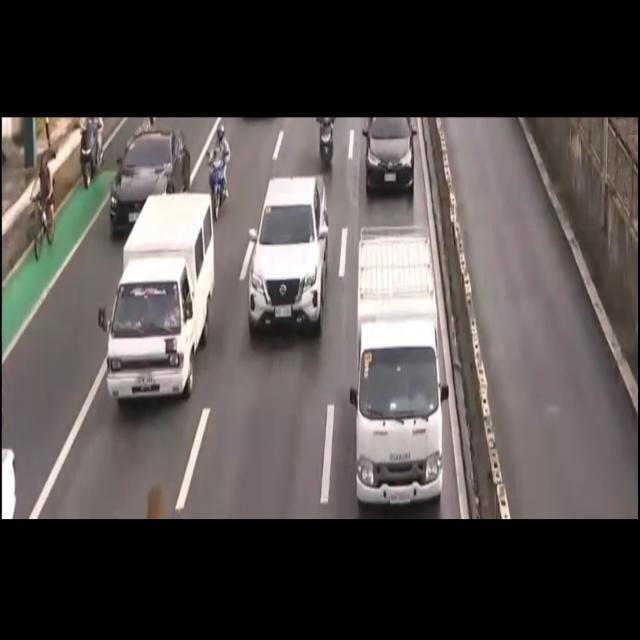Bicycle: (30, 145, 59, 256)
Motorcycle: (204, 124, 238, 210), (75, 114, 103, 190), (318, 116, 339, 170)
Pick-up: (352, 230, 442, 498), (104, 190, 210, 400)
SUV: (245, 178, 323, 329)
Sedan: (110, 132, 188, 231), (362, 116, 413, 204)
